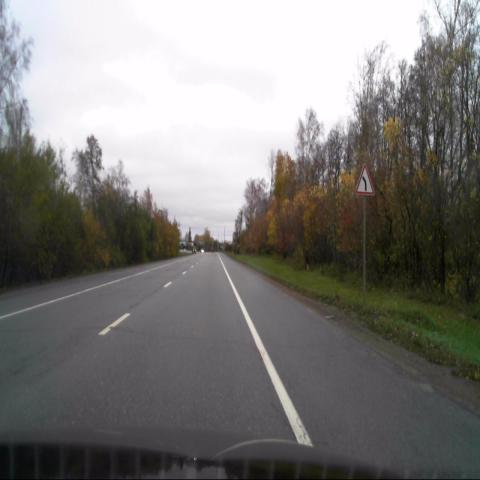1_11_1: (356, 165, 374, 195)
